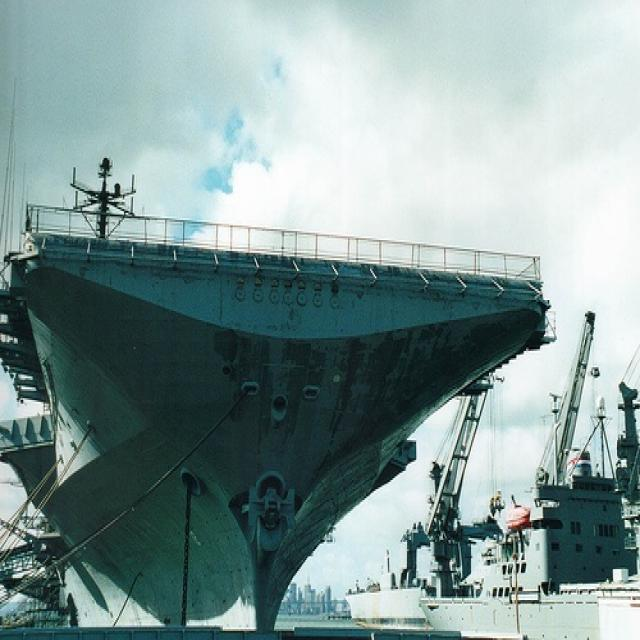boat: (4, 155, 548, 638), (421, 416, 639, 638), (344, 536, 448, 618)
